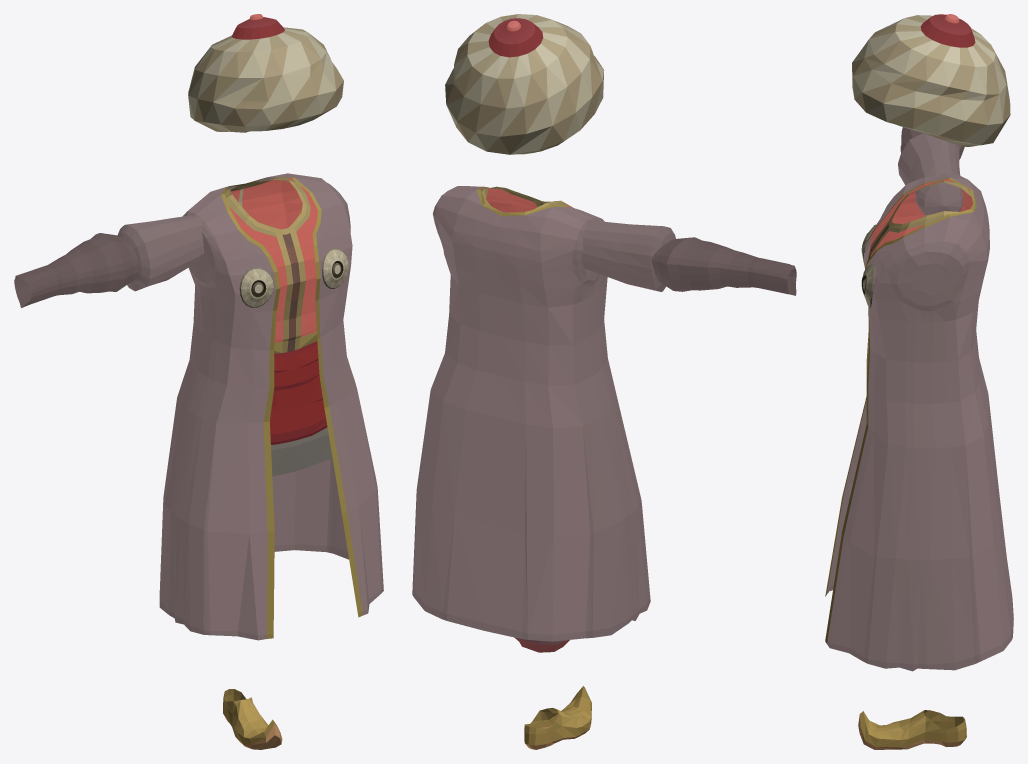
The model's file is ottomanLadleBearerFemale.glb.
The picture shows the model from 3 angles, left to right: view 1: azimuth 30°, elevation 25°; view 2: azimuth 150°, elevation 25°; view 3: azimuth 270°, elevation 25°; orthographic projection. The views are drawn at different scales.
Parts seen in each view (by area): view 1: ottomanLadleBearerBody, ottomanLadleBearerTurban, ottomanLadleBearerLowerArm, ottomanLadleBearerUpperArm, ottomanLadleBearerShoes; view 2: ottomanLadleBearerBody, ottomanLadleBearerTurban, ottomanLadleBearerLowerArm, ottomanLadleBearerUpperArm, ottomanLadleBearerShoes; view 3: ottomanLadleBearerBody, ottomanLadleBearerTurban, ottomanLadleBearerUpperArm, ottomanLadleBearerShoes.
Boxes of the visible parts, box(x1,y1,x2,y2) form: ottomanLadleBearerBody: box(159, 173, 383, 640); ottomanLadleBearerTurban: box(188, 14, 343, 132); ottomanLadleBearerLowerArm: box(14, 233, 138, 307); ottomanLadleBearerUpperArm: box(117, 215, 203, 291); ottomanLadleBearerShoes: box(223, 689, 282, 749); ottomanLadleBearerBody: box(412, 186, 650, 641); ottomanLadleBearerTurban: box(445, 14, 604, 154); ottomanLadleBearerLowerArm: box(651, 237, 796, 295); ottomanLadleBearerUpperArm: box(581, 220, 675, 291); ottomanLadleBearerShoes: box(524, 686, 591, 749); ottomanLadleBearerBody: box(825, 174, 1013, 671); ottomanLadleBearerTurban: box(852, 14, 1010, 146); ottomanLadleBearerUpperArm: box(898, 133, 963, 215); ottomanLadleBearerShoes: box(858, 710, 966, 749).
Size of the model in its own units: 1.08 by 2.05 by 0.4714.
